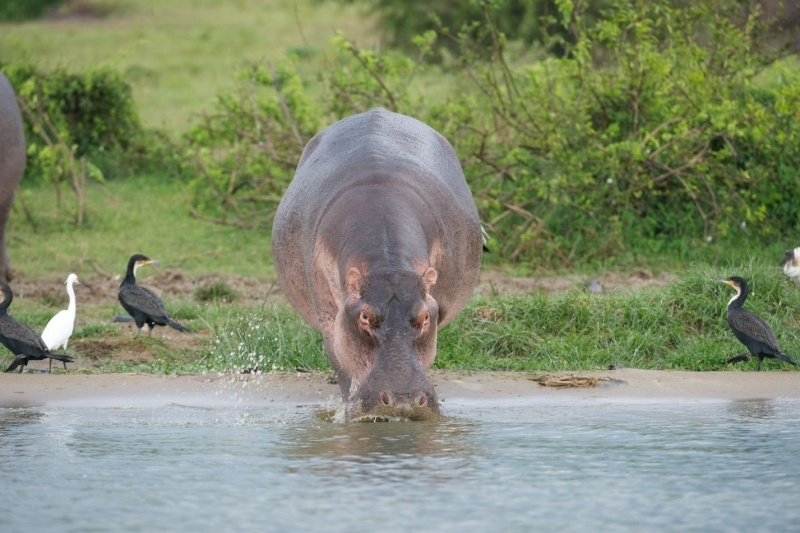hipopotamo: (257, 100, 494, 455)
